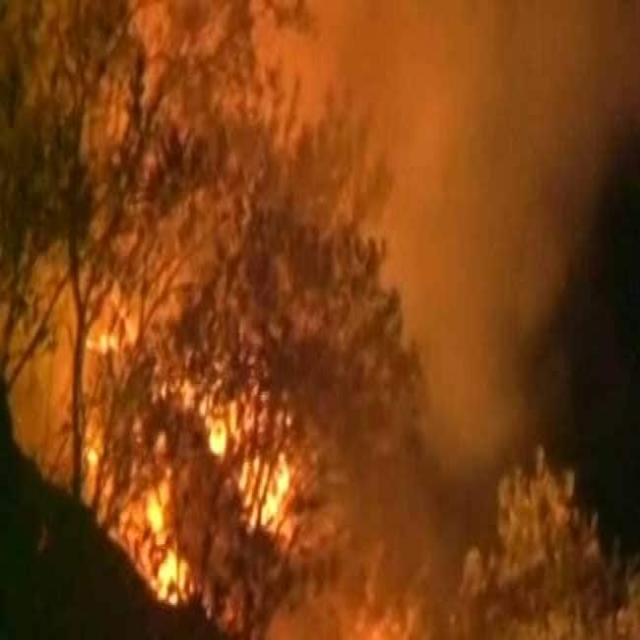Fire: (181, 388, 297, 540), (122, 472, 198, 620), (83, 304, 134, 376)
Smoke: (340, 19, 622, 363)
